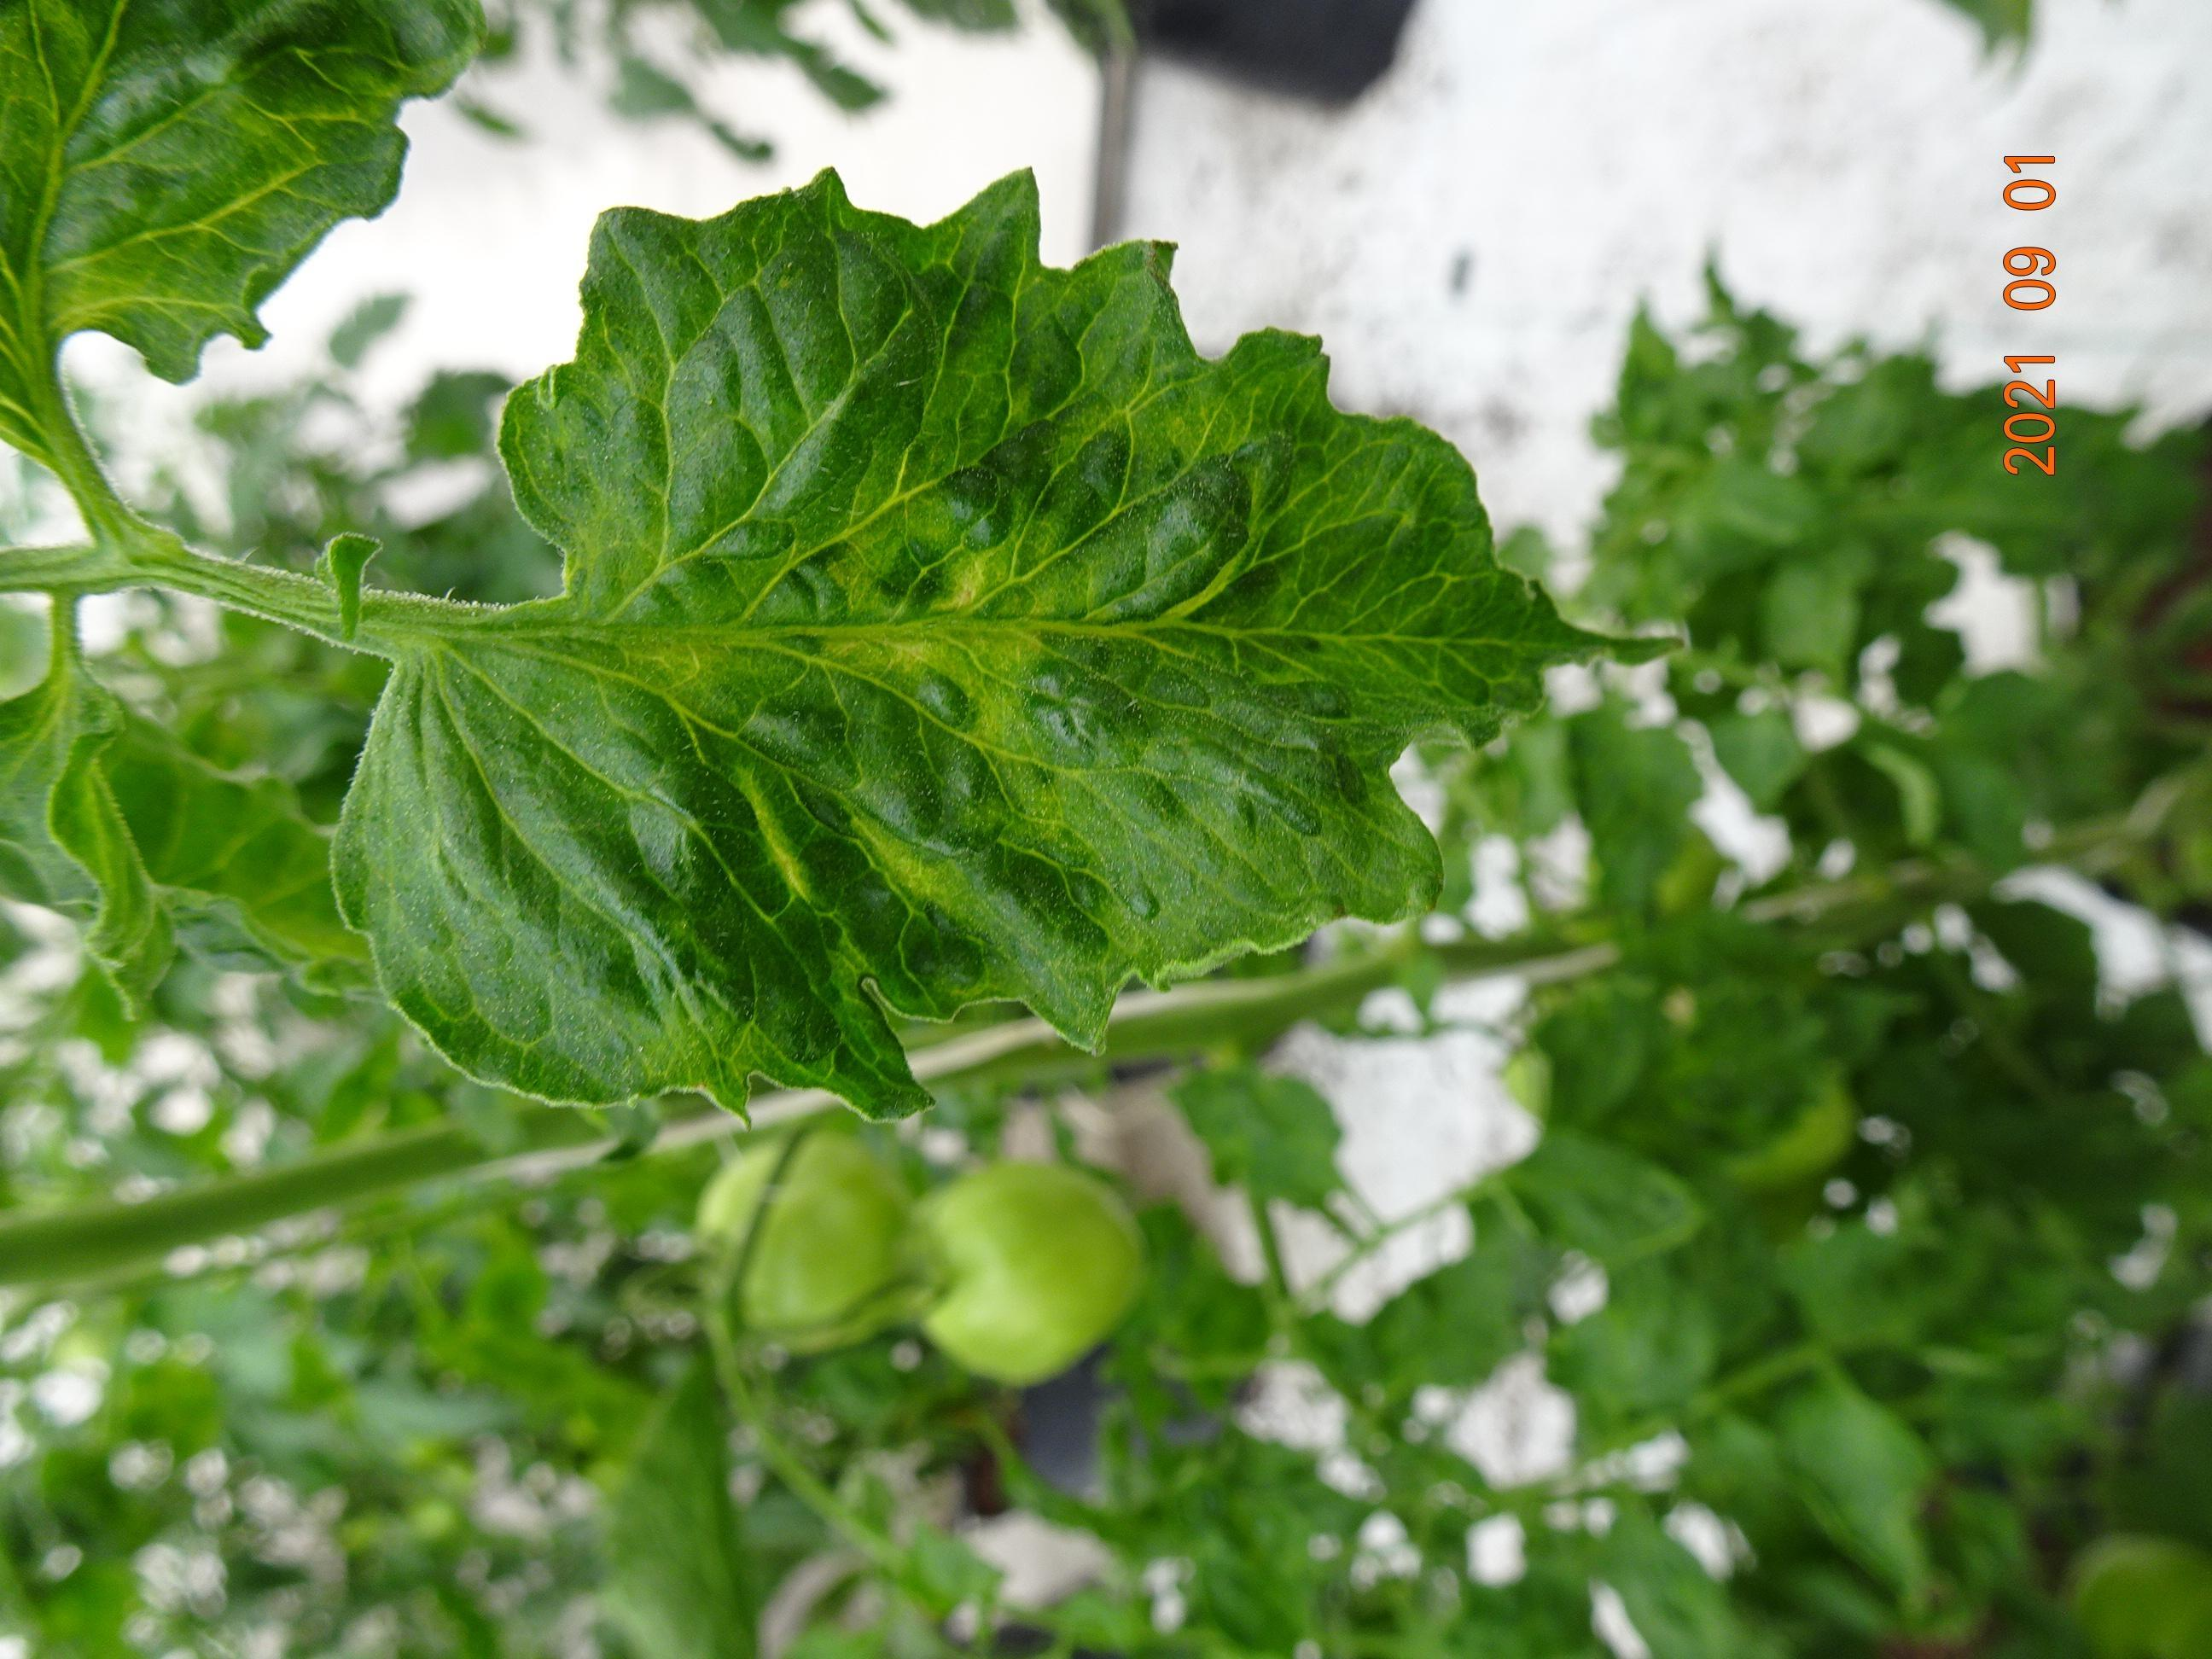Hoja rugoso: (333, 178, 1599, 1115)
